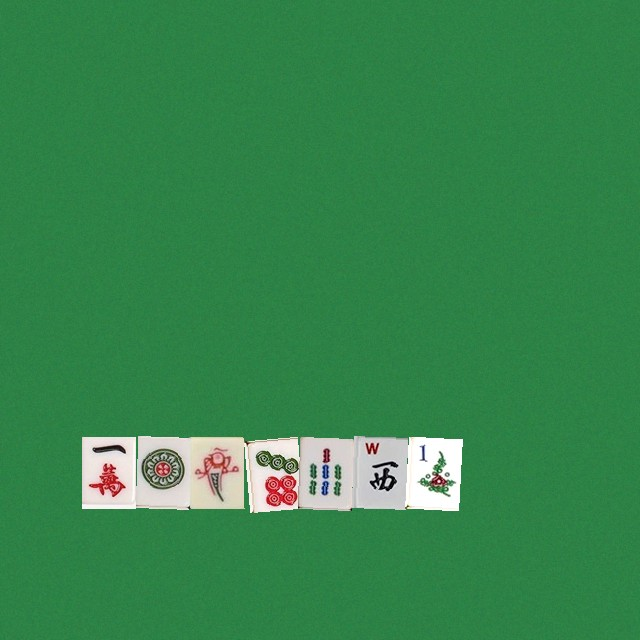tile: (81, 436, 135, 508), (135, 436, 189, 508), (189, 436, 243, 508), (243, 436, 297, 508), (297, 436, 351, 508), (351, 436, 405, 508), (405, 436, 459, 508)
